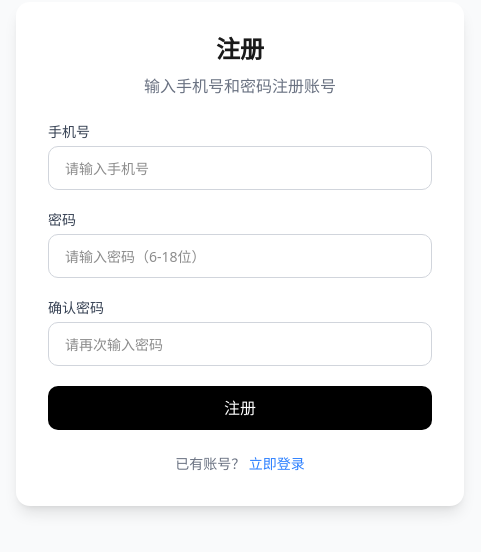
Test: RegisterPage › 手机号已注册时显示提示
This screenshot has width=481, height=552.
In the field with placeholder "请输入手机号": (240, 168) [48,146,432,190], type "13800138000"
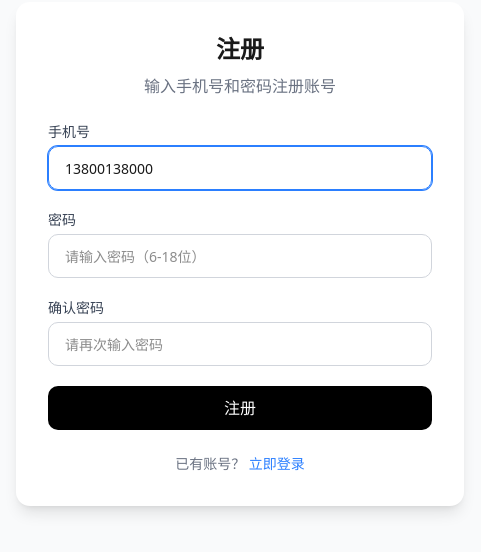
In the password field with placeholder "请输入密码（6-18位）": (240, 256) [48,234,432,278], type "123456"
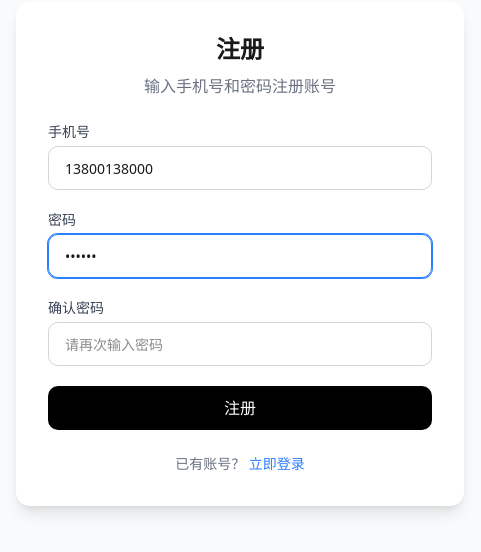
In the password field with placeholder "请再次输入密码": (240, 344) [48,322,432,366], type "123456"
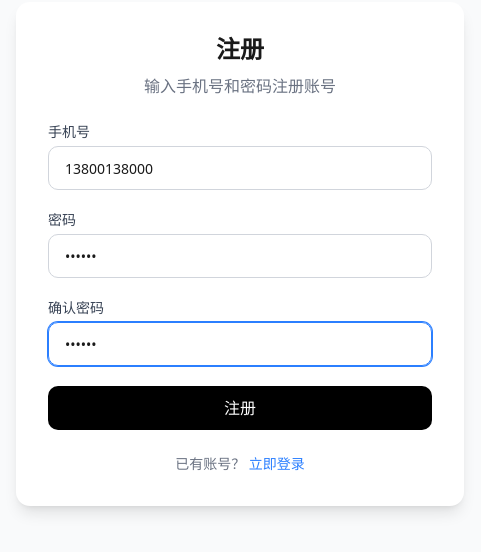
Click the button "注册": (240, 408) [48,386,432,430]
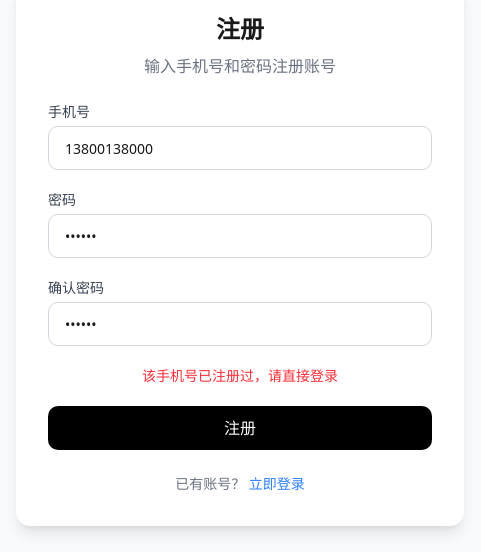
expect the text "该手机号已注册过，请直接登录" is shown: met, box [142,366,338,385]
